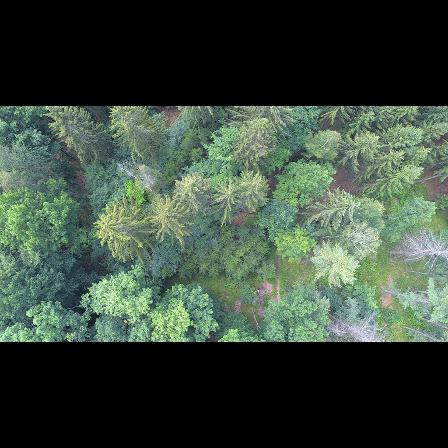Dead: (381, 226, 448, 271), (320, 303, 392, 342), (113, 160, 160, 194)
